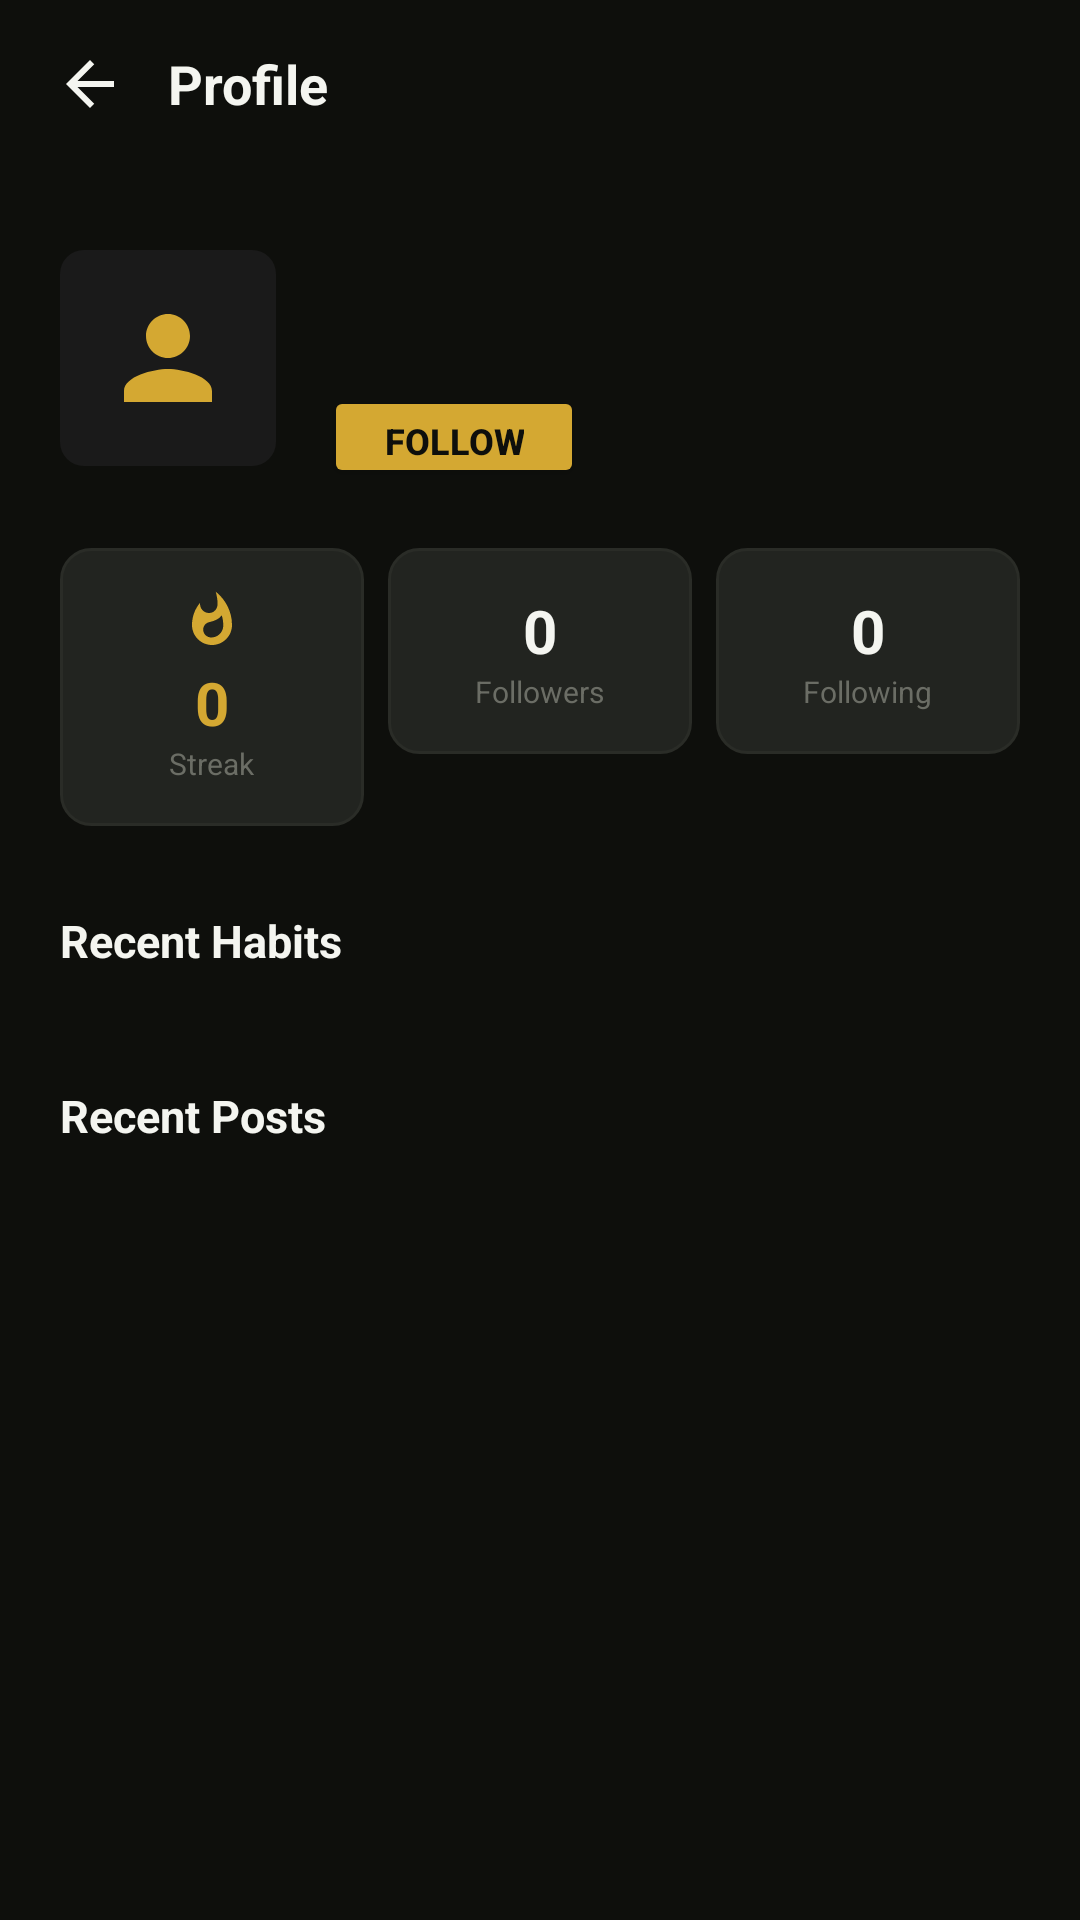

Icon click points for this 1080w x 1920h phone screenshot, format [x,y]:
back: [90,84]
person: [168,358]
